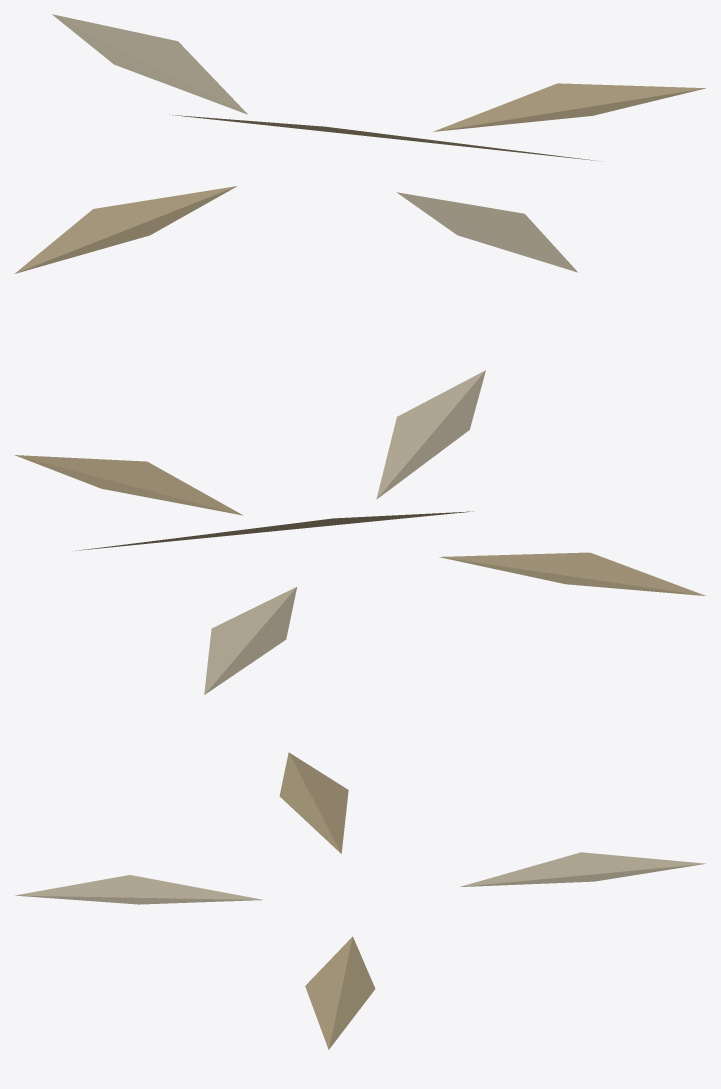
Rendered from cao.jue@withered__spring.glb.
3 views of the same model, one above another, from view 1: azimuth 30°, elevation 25°; view 2: azimuth 150°, elevation 25°; view 3: azimuth 270°, elevation 25° (orthographic). The views are drawn at different scales.
Visible parts, largest first — view 1: cao.jue@withered__spring; view 2: cao.jue@withered__spring; view 3: cao.jue@withered__spring.
Boxes of the visible parts, x1,y1,x2,y2 form: cao.jue@withered__spring: [14, 14, 705, 273]; cao.jue@withered__spring: [14, 370, 706, 694]; cao.jue@withered__spring: [15, 752, 705, 1049].
Bounding box in the file's own units: 0.6068 × 0.084 × 0.6072.
